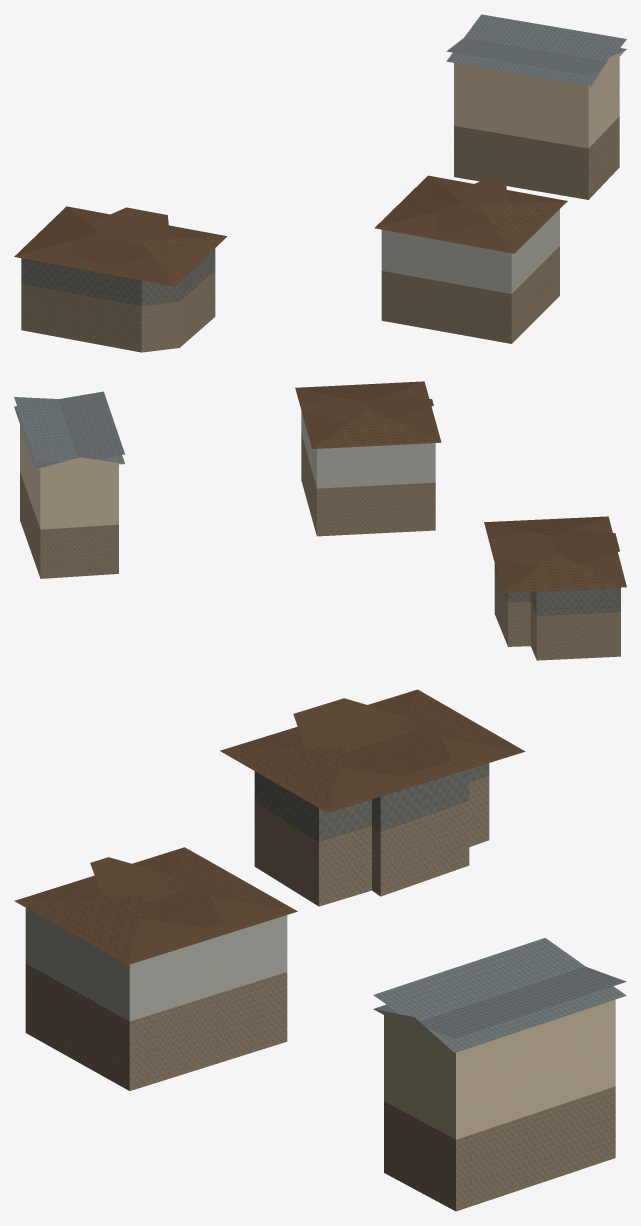
The model's file is bld_c41_47_190.gltf.
The picture shows the model from 3 angles, top to bottom: view 1: azimuth 30°, elevation 25°; view 2: azimuth 150°, elevation 25°; view 3: azimuth 270°, elevation 25°; orthographic projection. The views are drawn at different scales.
Visible parts, largest first — view 1: bld_c41_47_190; view 2: bld_c41_47_190; view 3: bld_c41_47_190.
Part boxes in pixels (x1,y1,x2,y2): bld_c41_47_190: [14, 14, 626, 352]; bld_c41_47_190: [14, 381, 626, 660]; bld_c41_47_190: [14, 689, 626, 1211].
Bounding box in the file's own units: 65.08 × 12.9 × 39.5.
7 materials, 7 textured.
